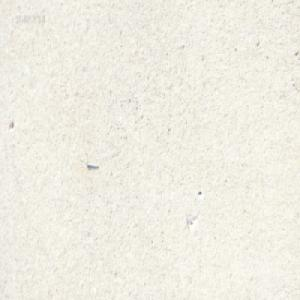Nail: (85, 159, 99, 168)
